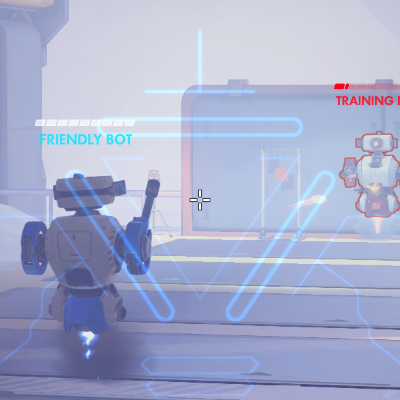hpbar: (333, 82, 400, 90)
